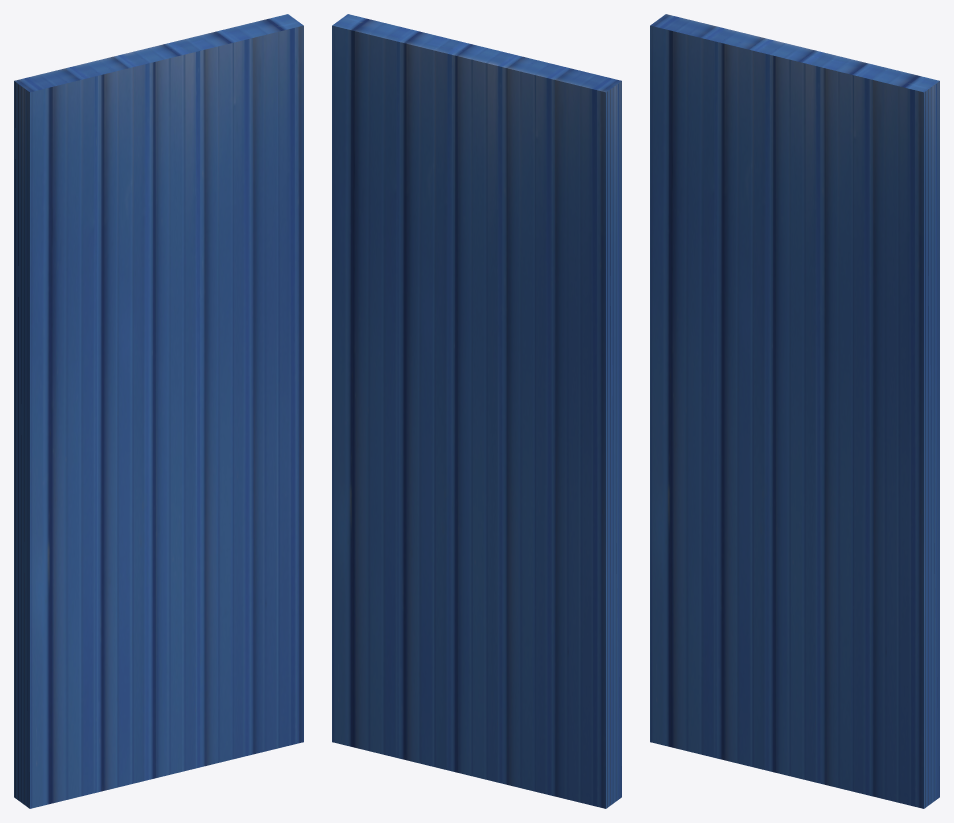
Rendered from Wall_Plain.fbx.
3 views of the same model, side by side, from view 1: azimuth 30°, elevation 25°; view 2: azimuth 150°, elevation 25°; view 3: azimuth 330°, elevation 25° (orthographic).
Visible parts, largest first — view 1: Wall_Plain; view 2: Wall_Plain; view 3: Wall_Plain.
Part boxes in pixels (left/top/right/bottom): Wall_Plain: left=14, top=14, right=303, bottom=808; Wall_Plain: left=332, top=14, right=621, bottom=808; Wall_Plain: left=650, top=14, right=939, bottom=808.
Bounding box in the file's own units: 1 × 2.5 × 0.1.
